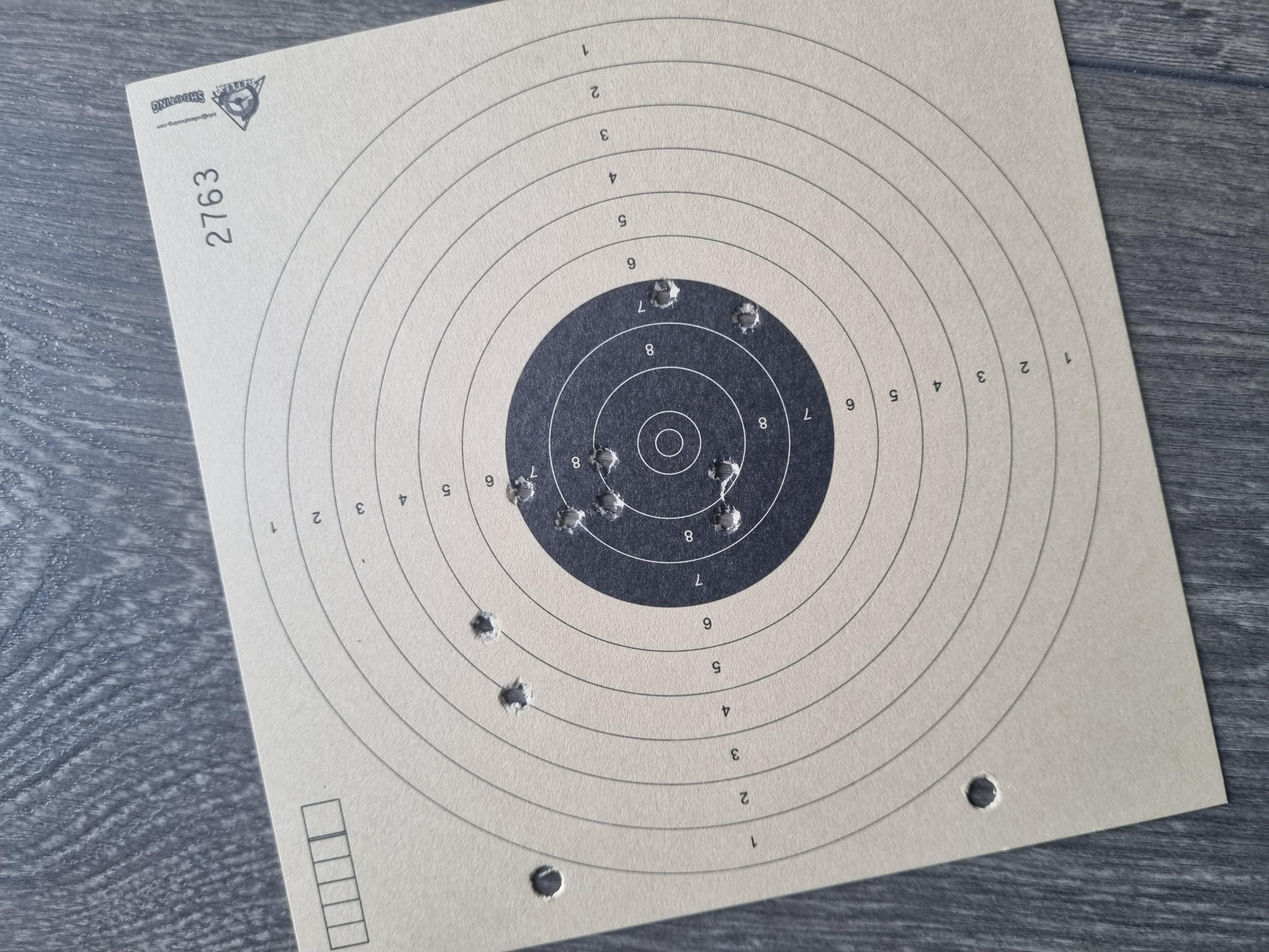hole: (553, 411, 600, 442), (317, 372, 367, 401), (609, 530, 664, 556), (854, 485, 902, 513), (574, 443, 622, 470), (586, 378, 635, 404), (633, 441, 681, 465), (821, 548, 867, 572), (413, 352, 460, 375), (554, 532, 600, 555)
